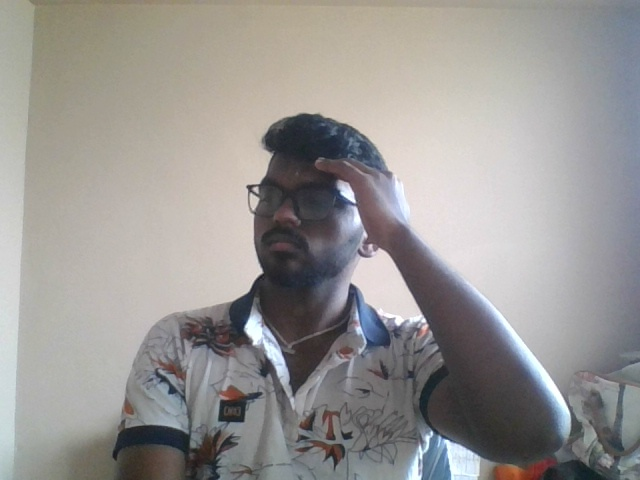Hello: (309, 151, 434, 277)
